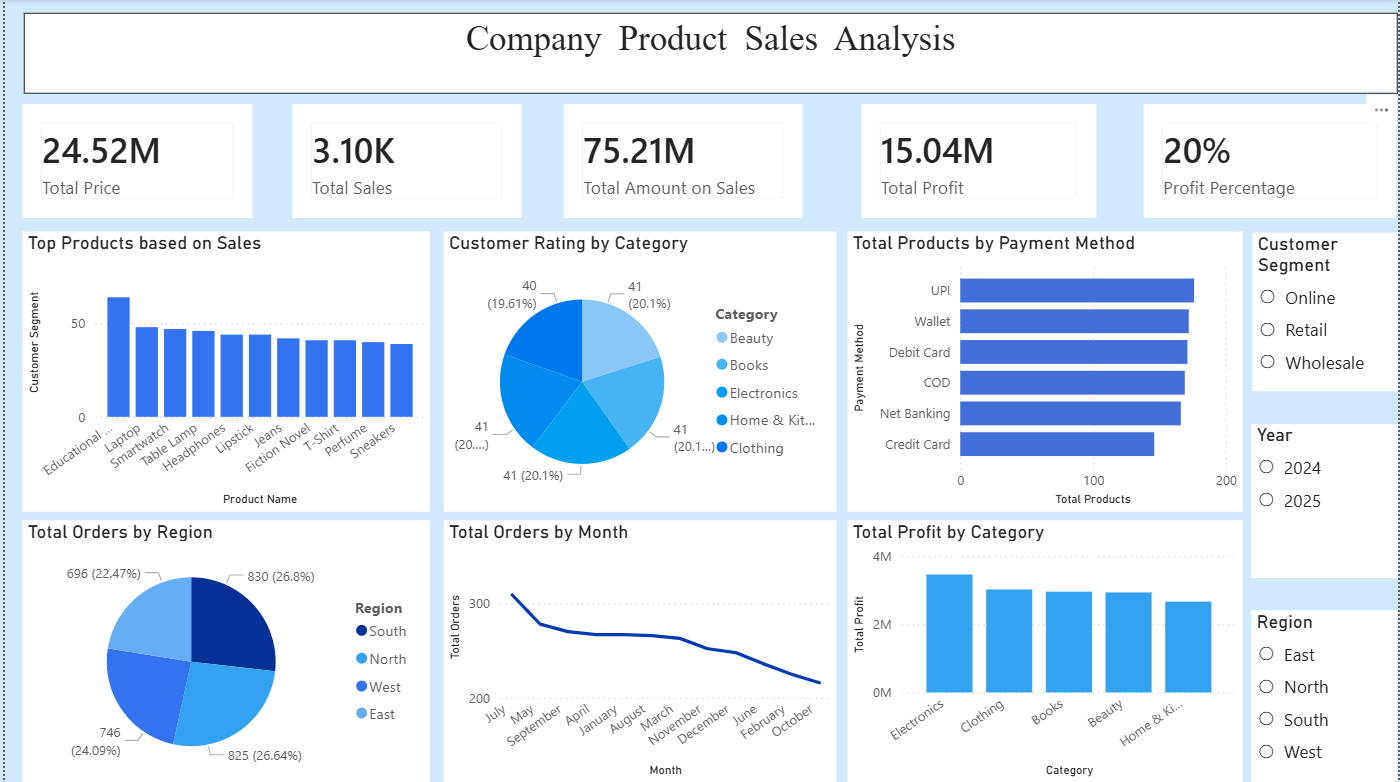

The page's visual inventory and layout, read from the dashboard file:
{"tool":"powerbi","page":{"name":"Page Flipkart Analysis Dashboard","canvas":[1280,720],"ordinal":0},"visuals":[{"type":"cardVisual","fields":{"Data":["Sum(flipkart_sales_enriched.Total Sales (INR))"]},"box":[513.5,96.5,219.4,104.5],"z":0},{"type":"cardVisual","fields":{"Data":["flipkart_sales_enriched.Total Sales"]},"box":[264.2,96.5,210.2,104.5],"z":1000},{"type":"cardVisual","fields":{"Data":["Sum(flipkart_sales_enriched.Profit (INR))"]},"box":[786.9,96.5,216,104.5],"z":2000},{"type":"cardVisual","fields":{"Data":["Sum(flipkart_sales_enriched.Price (INR))"]},"box":[16.1,96.5,211.4,104.5],"z":3000},{"type":"cardVisual","fields":{"Data":["flipkart_sales_enriched.Profit Percentage"]},"box":[1046.5,96.5,232,104.5],"z":4000},{"type":"clusteredColumnChart","title":"Top Products based on Sales","fields":{"Category":["flipkart_sales_enriched.Product Name"],"Y":["CountNonNull(flipkart_sales_enriched.Customer Segment)"]},"box":[16.1,213.7,374.5,257.3],"z":5000},{"type":"lineChart","fields":{"Y":["flipkart_sales_enriched.Total Orders"],"Category":["flipkart_sales_enriched.Month"]},"box":[403.2,479,360.7,241.2],"z":6000},{"type":"pieChart","fields":{"Category":["flipkart_sales_enriched.Region"],"Y":["flipkart_sales_enriched.Total Orders"]},"box":[16.1,479,374.5,241.2],"z":7000},{"type":"pieChart","fields":{"Category":["flipkart_sales_enriched.Category"],"Y":["Count(flipkart_sales_enriched.Customer Rating)"]},"box":[403.2,213.7,360.7,257.3],"z":8000},{"type":"clusteredBarChart","fields":{"Category":["flipkart_sales_enriched.Payment Method"],"Y":["CountNonNull(flipkart_sales_enriched.Product Name)"]},"box":[774.2,213.7,363,257.3],"z":9000},{"type":"clusteredColumnChart","fields":{"Category":["flipkart_sales_enriched.Category"],"Y":["Sum(flipkart_sales_enriched.Profit (INR))"]},"box":[774.2,479,363,241.2],"z":10000},{"type":"listSlicer","fields":{"Values":["flipkart_sales_enriched.Customer Segment"]},"box":[1146.5,215.1,133.7,145.3],"z":11000},{"type":"listSlicer","fields":{"Values":["flipkart_sales_enriched.Region"]},"box":[1145.3,561.7,134.4,158.5],"z":12000},{"type":"listSlicer","fields":{"Values":["flipkart_sales_enriched.Year"]},"box":[1145.4,390.7,134.9,141.9],"z":13000},{"type":"textbox","box":[17.2,12.6,1262.4,74.7],"z":14000}]}

Visuals, with their boxes in screenshot pixels (x1, y1, x2, y2), scaled from the page's 1280x720 canvas onto the 1400x782 screenshot:
cardVisual - Sum(flipkart_sales_enriched.Total Sales (INR)): bbox=[562, 105, 802, 218]
cardVisual - flipkart_sales_enriched.Total Sales: bbox=[289, 105, 519, 218]
cardVisual - Sum(flipkart_sales_enriched.Profit (INR)): bbox=[861, 105, 1097, 218]
cardVisual - Sum(flipkart_sales_enriched.Price (INR)): bbox=[18, 105, 249, 218]
cardVisual - flipkart_sales_enriched.Profit Percentage: bbox=[1145, 105, 1398, 218]
"Top Products based on Sales" clusteredColumnChart: bbox=[18, 232, 427, 512]
lineChart - flipkart_sales_enriched.Total Orders x flipkart_sales_enriched.Month: bbox=[441, 520, 836, 781]
pieChart - flipkart_sales_enriched.Region x flipkart_sales_enriched.Total Orders: bbox=[18, 520, 427, 781]
pieChart - flipkart_sales_enriched.Category x Count(flipkart_sales_enriched.Customer Rating): bbox=[441, 232, 836, 512]
clusteredBarChart - flipkart_sales_enriched.Payment Method x CountNonNull(flipkart_sales_enriched.Product Name): bbox=[847, 232, 1244, 512]
clusteredColumnChart - flipkart_sales_enriched.Category x Sum(flipkart_sales_enriched.Profit (INR)): bbox=[847, 520, 1244, 781]
listSlicer - flipkart_sales_enriched.Customer Segment: bbox=[1254, 234, 1399, 391]
listSlicer - flipkart_sales_enriched.Region: bbox=[1253, 610, 1399, 781]
listSlicer - flipkart_sales_enriched.Year: bbox=[1253, 424, 1399, 578]
textbox: bbox=[19, 14, 1399, 95]
